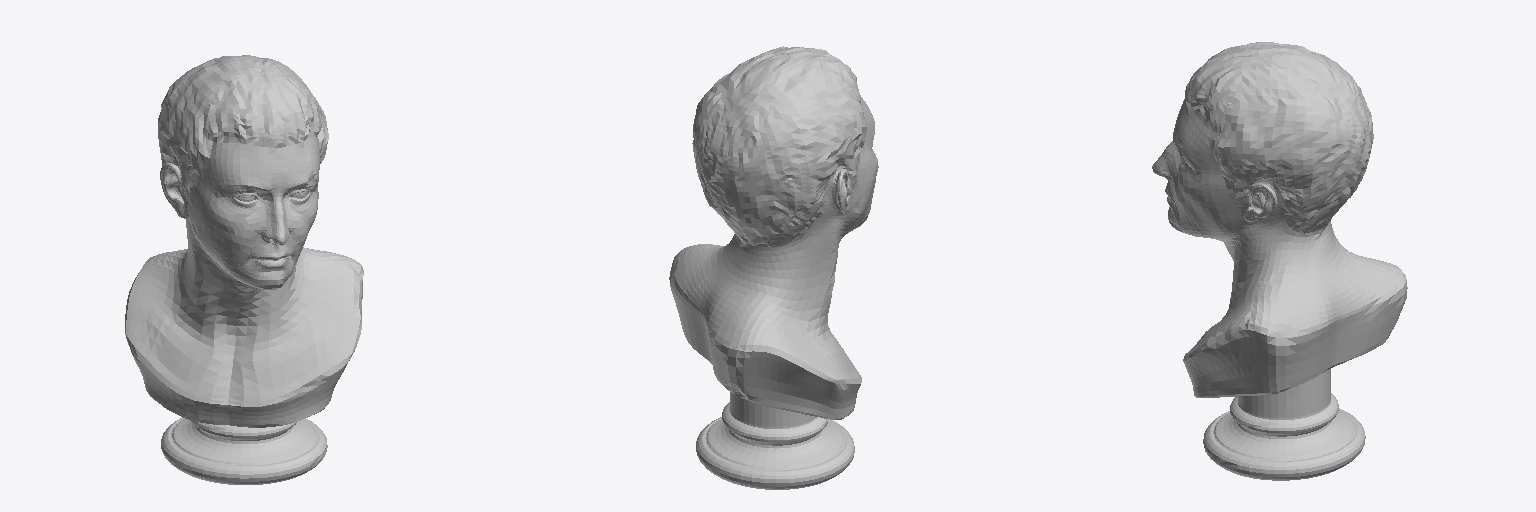
Rendered from statue.obj.
3 views of the same model, side by side, from view 1: azimuth 30°, elevation 25°; view 2: azimuth 150°, elevation 25°; view 3: azimuth 270°, elevation 25° (orthographic).
Visible parts, largest first — view 1: marble_bust_01; view 2: marble_bust_01; view 3: marble_bust_01.
Boxes of the visible parts, <box> form: marble_bust_01: <box>125,55,363,484</box>; marble_bust_01: <box>669,46,878,489</box>; marble_bust_01: <box>1152,42,1407,480</box>.
Bounding box in the file's own units: 2.48 × 4.7 × 2.74.